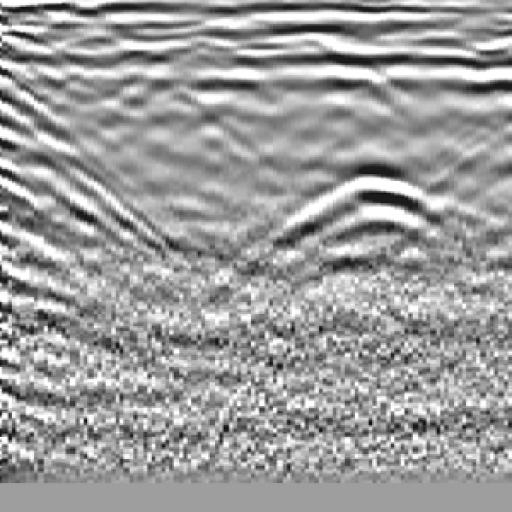metalic: (270, 48, 463, 269)
nonmetalic: (1, 46, 122, 263)
